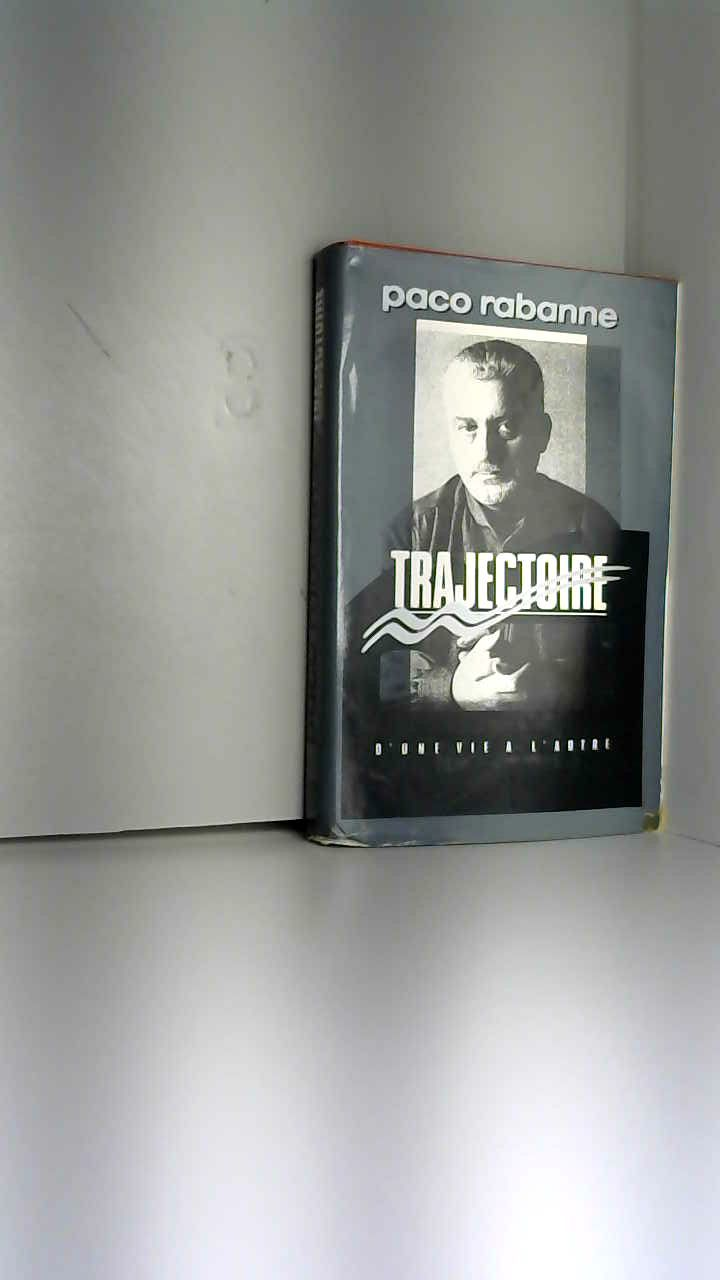book: (270, 210, 715, 870)
